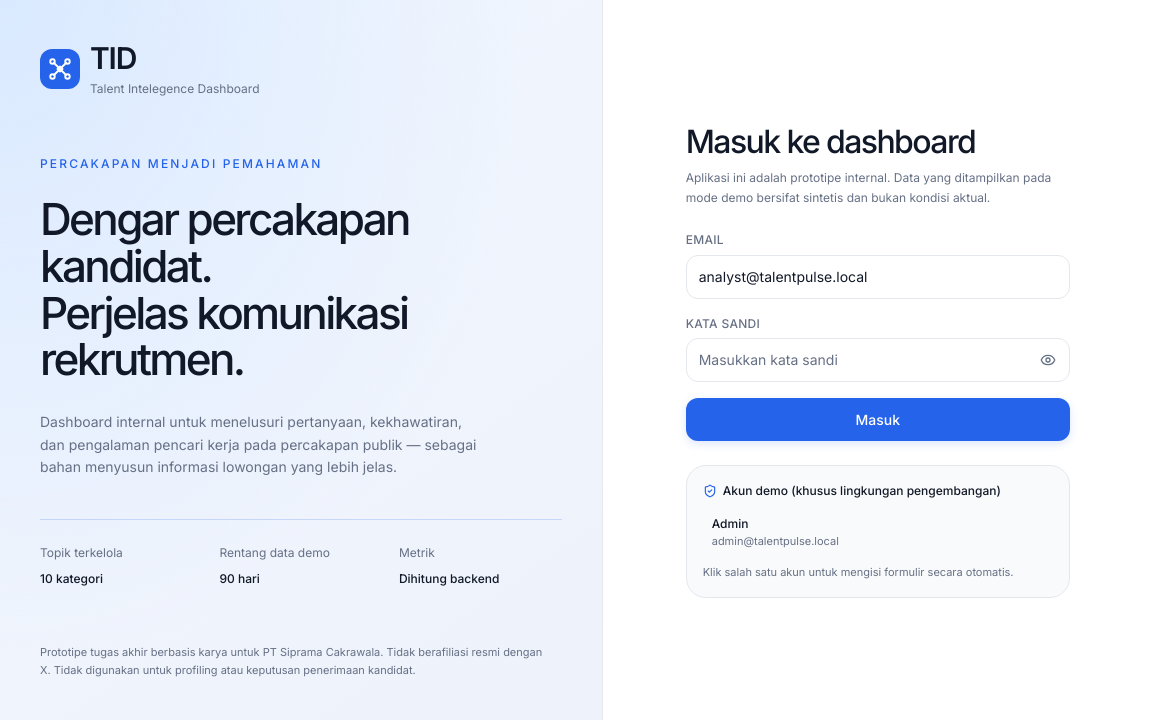
Test: halaman masuk › mengisi formulir dari daftar akun demo
The width and height of the screenshot is (1152, 720).
Step 1. Click the text "admin@talentpulse.local" → (775, 541), box [712, 534, 839, 548]
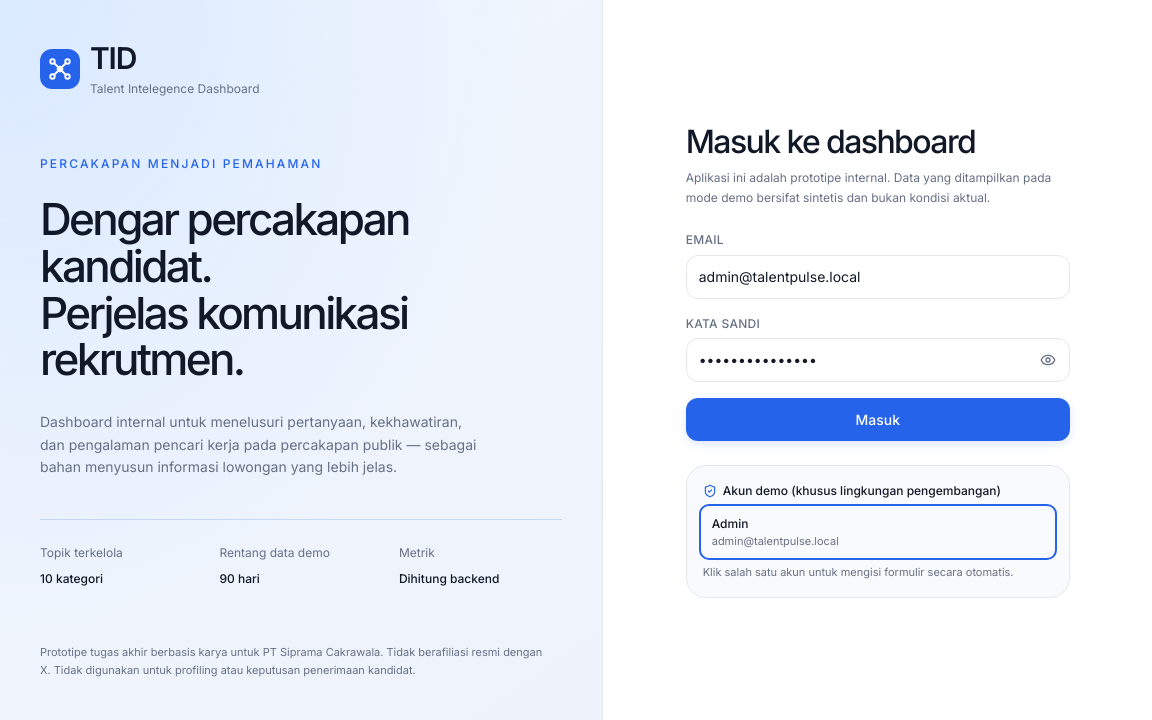
Expected: the field labelled "Email" holds "admin@talentpulse.local", [686, 255, 1070, 299]
